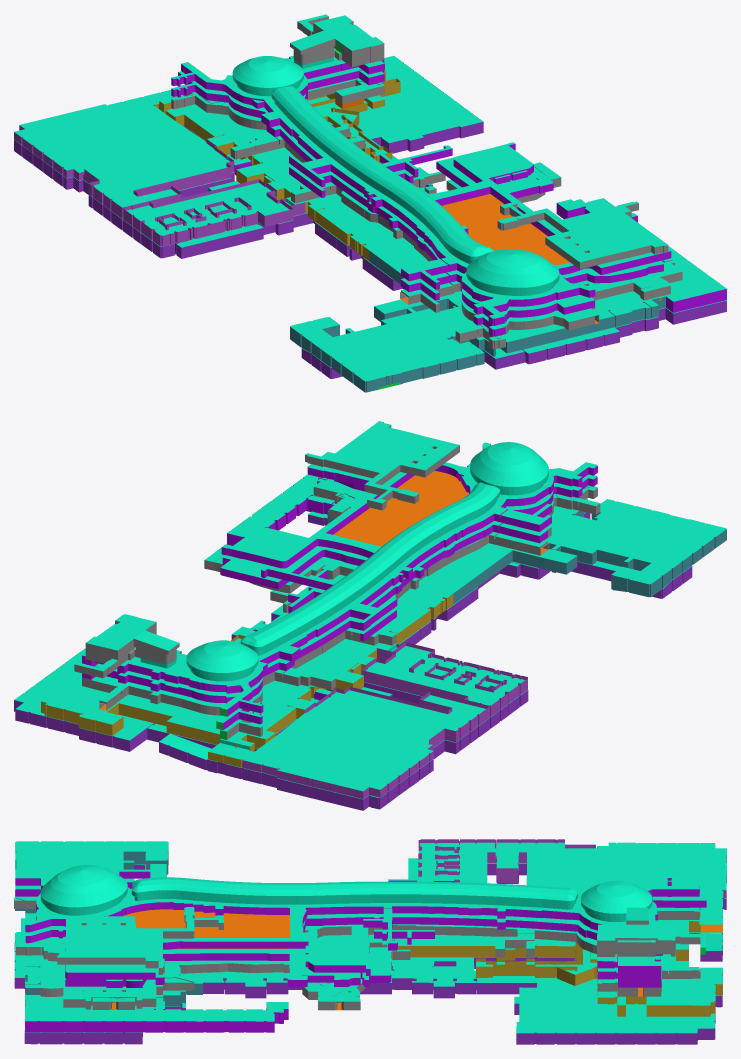
File: TaiYuan_WanDaGuangChang_indooor.FBX
3 renders of one model, top to bottom at view 1: azimuth 30°, elevation 25°; view 2: azimuth 150°, elevation 25°; view 3: azimuth 270°, elevation 25°, orthographic.
Visible parts, largest first — view 1: ty_wdgc_01_b1_ding, ty_wdgc_01_f3_ding, ty_wdgc_01_b1, ty_wdgc_01_f3, ty_wdgc_01_b2, ty_wdgc_01_f1, ty_wdgc_01_b2_ding, ty_wdgc_01_f4_ding, ty_wdgc_01_f2, ty_wdgc_01_f1_ding, ty_wdgc_01_f2_ding, ty_wdgc_01_f4; view 2: ty_wdgc_01_b1_ding, ty_wdgc_01_f3_ding, ty_wdgc_01_b1, ty_wdgc_01_f3, ty_wdgc_01_b2, ty_wdgc_01_f1, ty_wdgc_01_f4_ding, ty_wdgc_01_f2, ty_wdgc_01_b2_ding, ty_wdgc_01_f2_ding, ty_wdgc_01_f4, ty_wdgc_01_f1_ding; view 3: ty_wdgc_01_b1_ding, ty_wdgc_01_f3_ding, ty_wdgc_01_b1, ty_wdgc_01_b2_ding, ty_wdgc_01_f3, ty_wdgc_01_b2, ty_wdgc_01_f1, ty_wdgc_01_f2, ty_wdgc_01_f4_ding, ty_wdgc_01_f1_ding, ty_wdgc_01_f2_ding, ty_wdgc_01_f4.
Boxes of the visible parts, box(x1,y1,x2,y2) form: ty_wdgc_01_b1_ding: box(14, 58, 726, 381); ty_wdgc_01_f3_ding: box(171, 55, 670, 318); ty_wdgc_01_b1: box(14, 71, 726, 392); ty_wdgc_01_f3: box(171, 57, 671, 325); ty_wdgc_01_b2: box(14, 63, 726, 378); ty_wdgc_01_f1: box(171, 79, 682, 348); ty_wdgc_01_b2_ding: box(15, 56, 726, 367); ty_wdgc_01_f4_ding: box(290, 14, 667, 262); ty_wdgc_01_f2: box(171, 70, 663, 336); ty_wdgc_01_f1_ding: box(172, 78, 681, 340); ty_wdgc_01_f2_ding: box(171, 67, 663, 329); ty_wdgc_01_f4: box(290, 16, 668, 269); ty_wdgc_01_b1_ding: box(41, 474, 726, 791); ty_wdgc_01_f3_ding: box(82, 442, 597, 709); ty_wdgc_01_b1: box(41, 477, 726, 798); ty_wdgc_01_f3: box(82, 444, 597, 716); ty_wdgc_01_b2: box(14, 509, 692, 810); ty_wdgc_01_f1: box(82, 477, 600, 739); ty_wdgc_01_f4_ding: box(75, 421, 459, 671); ty_wdgc_01_f2: box(82, 476, 597, 729); ty_wdgc_01_b2_ding: box(14, 511, 691, 799); ty_wdgc_01_f2_ding: box(95, 474, 597, 722); ty_wdgc_01_f4: box(74, 422, 459, 678); ty_wdgc_01_f1_ding: box(91, 477, 599, 731); ty_wdgc_01_b1_ding: box(15, 841, 726, 1021); ty_wdgc_01_f3_ding: box(15, 864, 699, 977); ty_wdgc_01_b1: box(15, 839, 726, 1032); ty_wdgc_01_b2_ding: box(14, 858, 726, 1033); ty_wdgc_01_f3: box(15, 871, 699, 984); ty_wdgc_01_b2: box(14, 864, 726, 1044); ty_wdgc_01_f1: box(14, 898, 700, 1010); ty_wdgc_01_f2: box(15, 882, 706, 987); ty_wdgc_01_f4_ding: box(57, 907, 705, 967); ty_wdgc_01_f1_ding: box(14, 895, 699, 1001); ty_wdgc_01_f2_ding: box(15, 875, 706, 980); ty_wdgc_01_f4: box(57, 915, 705, 974).
Size of the model in its own units: 180 by 38.25 by 297.
